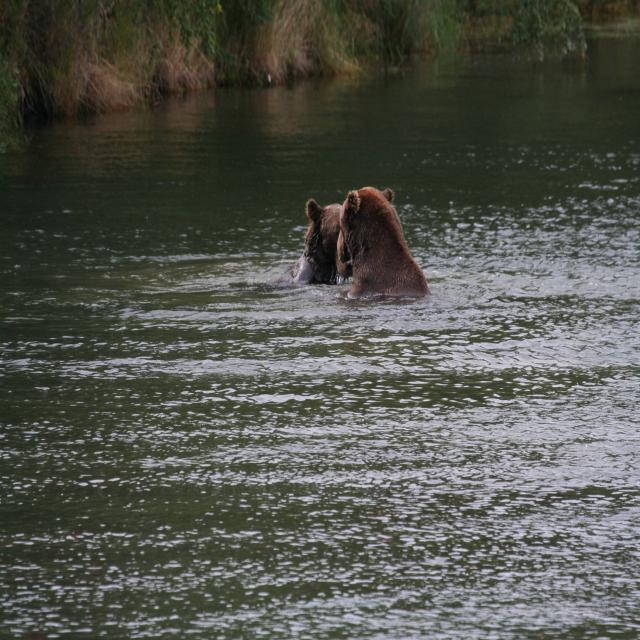bear face: (338, 187, 427, 297), (302, 194, 349, 275)
